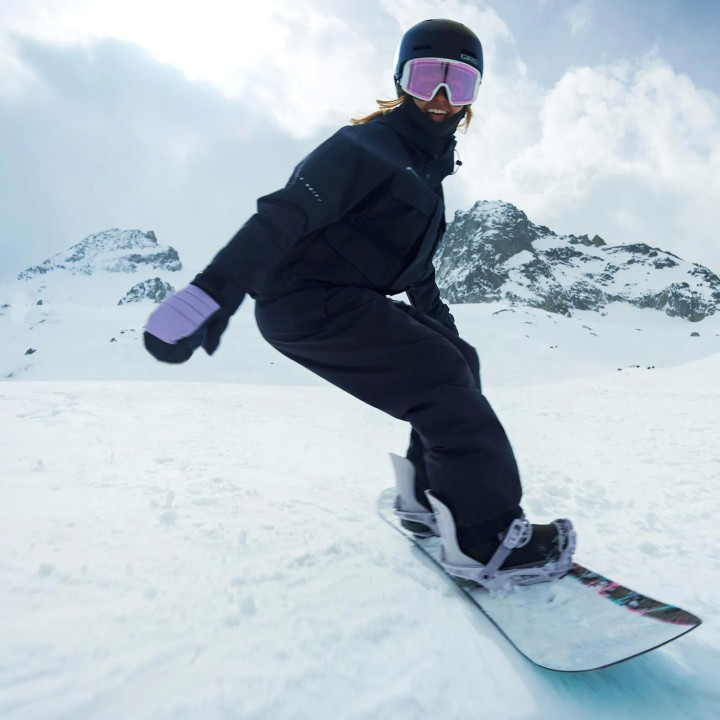snowboarder: (140, 15, 702, 672)
